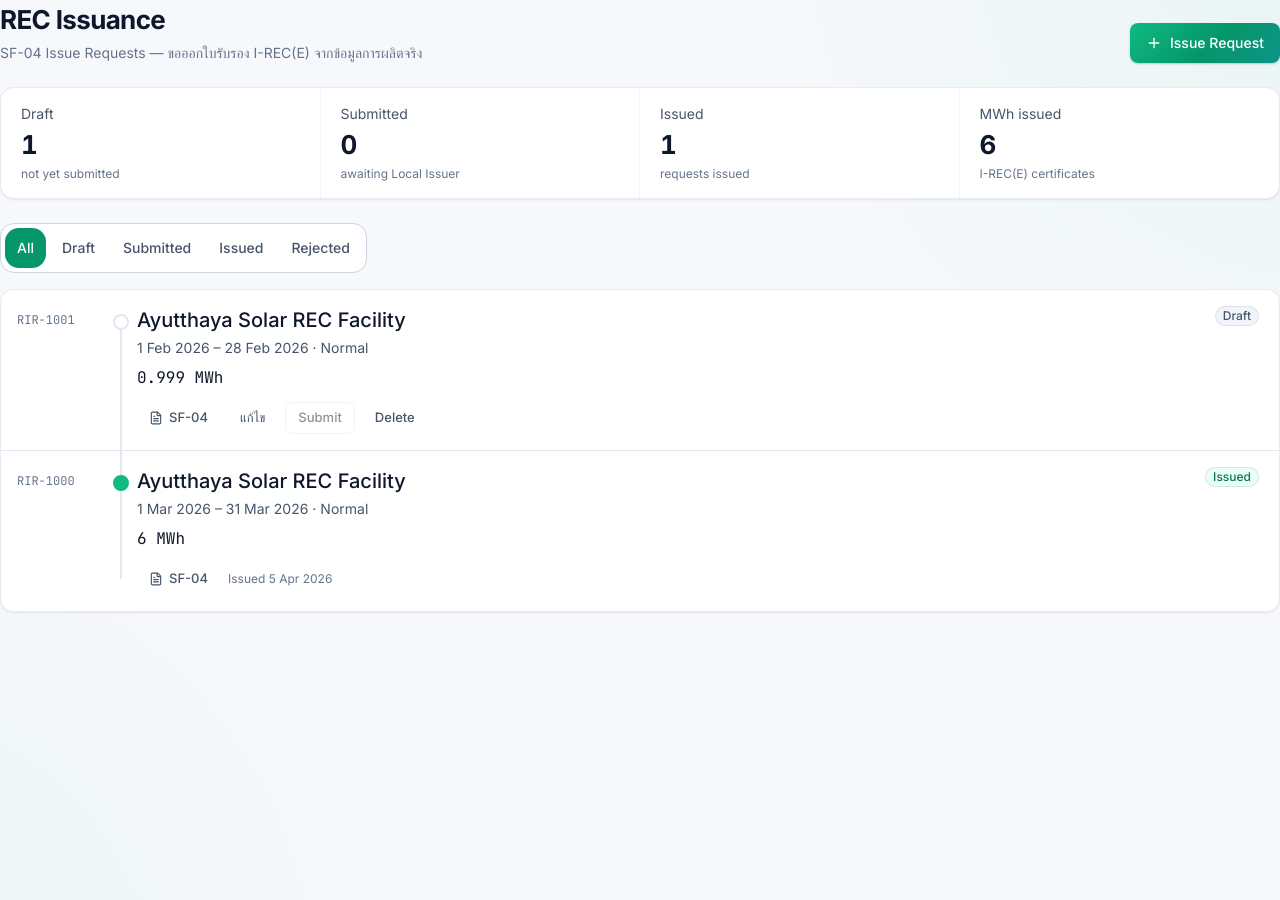
REC Issuance page › create modal prefills Facility ID from the project's most recent request
The image size is (1280, 900).
Click the button "Issue Request".
click(1205, 43)  # box [1130,23,1279,63]
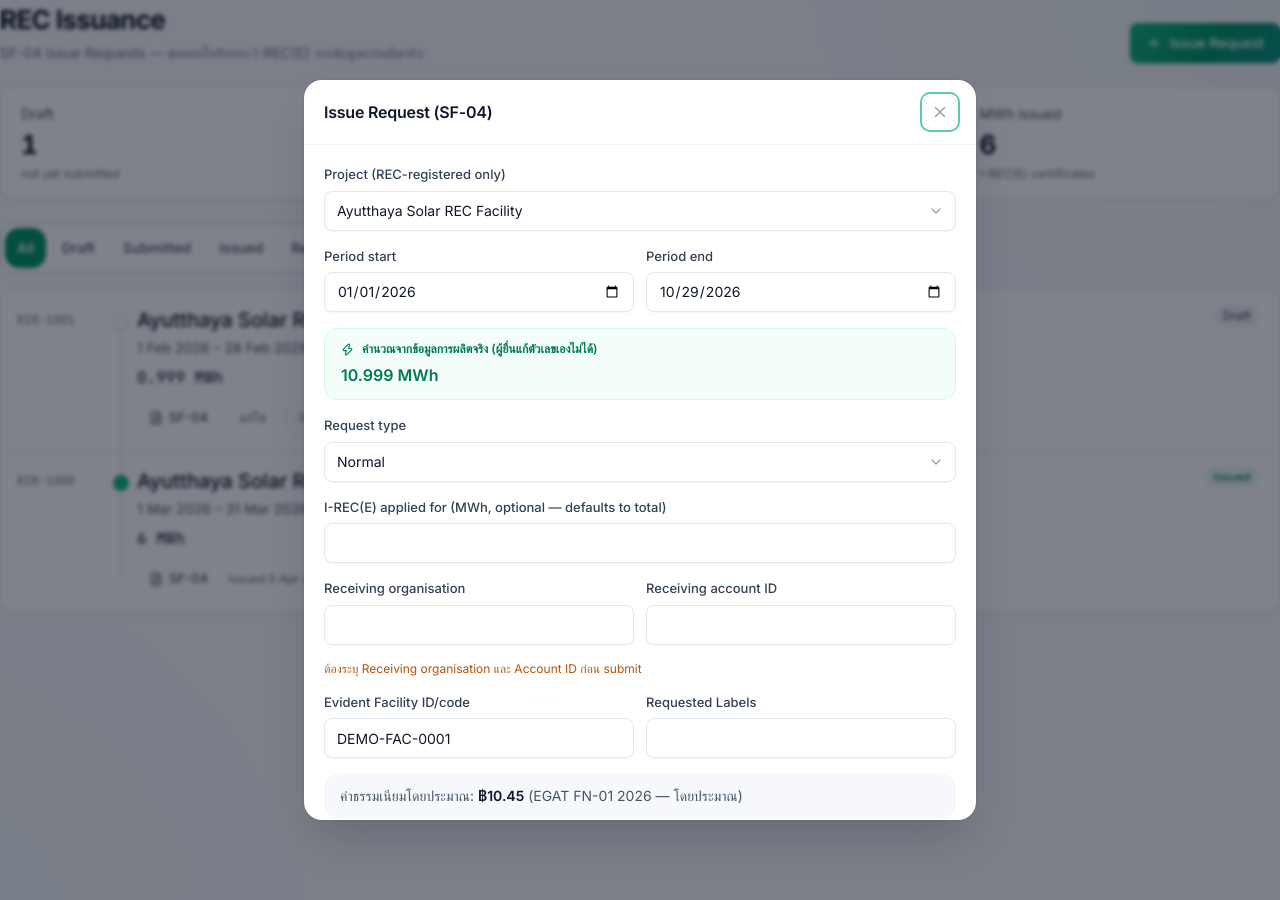
Result: the field labelled "Evident Facility ID/code" holds "DEMO-FAC-0001" at [324,718,634,758]
